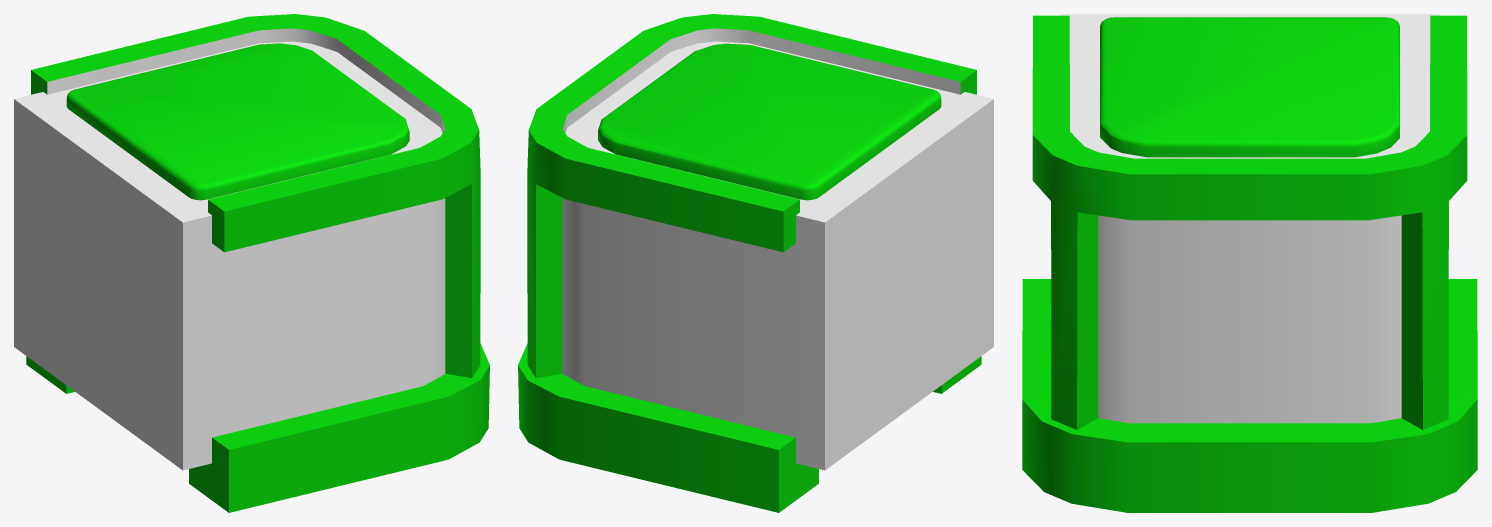
The model's file is 2SideNormalTile.fbx.
The picture shows the model from 3 angles, left to right: view 1: azimuth 30°, elevation 25°; view 2: azimuth 150°, elevation 25°; view 3: azimuth 270°, elevation 25°; orthographic projection. The views are drawn at different scales.
Visible parts, largest first — view 1: 2SideNormalTile; view 2: 2SideNormalTile; view 3: 2SideNormalTile.
Part boxes in pixels (left/top/right/bottom): 2SideNormalTile: left=14, top=14, right=489, bottom=512; 2SideNormalTile: left=518, top=14, right=993, bottom=512; 2SideNormalTile: left=1022, top=14, right=1477, bottom=512.
Size of the model in its own units: 112 by 97.54 by 120.
